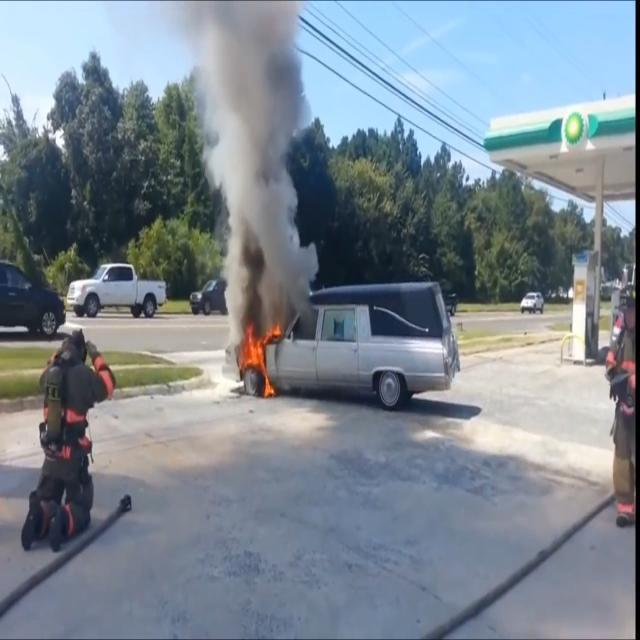fire: (234, 311, 284, 405)
